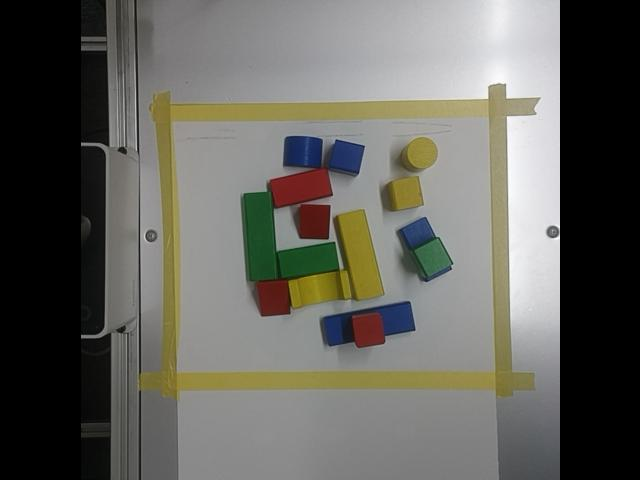blue_cube: (328, 140, 364, 177)
cylinder: (400, 138, 437, 172)
green_cube: (410, 238, 452, 279)
green_longrect: (241, 194, 277, 281)
green_rect: (276, 243, 338, 279)
half_cylinder: (283, 137, 322, 167)
red_cube: (351, 314, 384, 347)
red_rect: (269, 168, 331, 208)
triangle: (256, 281, 289, 316), (298, 206, 330, 239)
yellow_archrect: (287, 271, 350, 309)
yellow_cube: (386, 177, 423, 211)
yellow_longrect: (334, 210, 383, 301)
